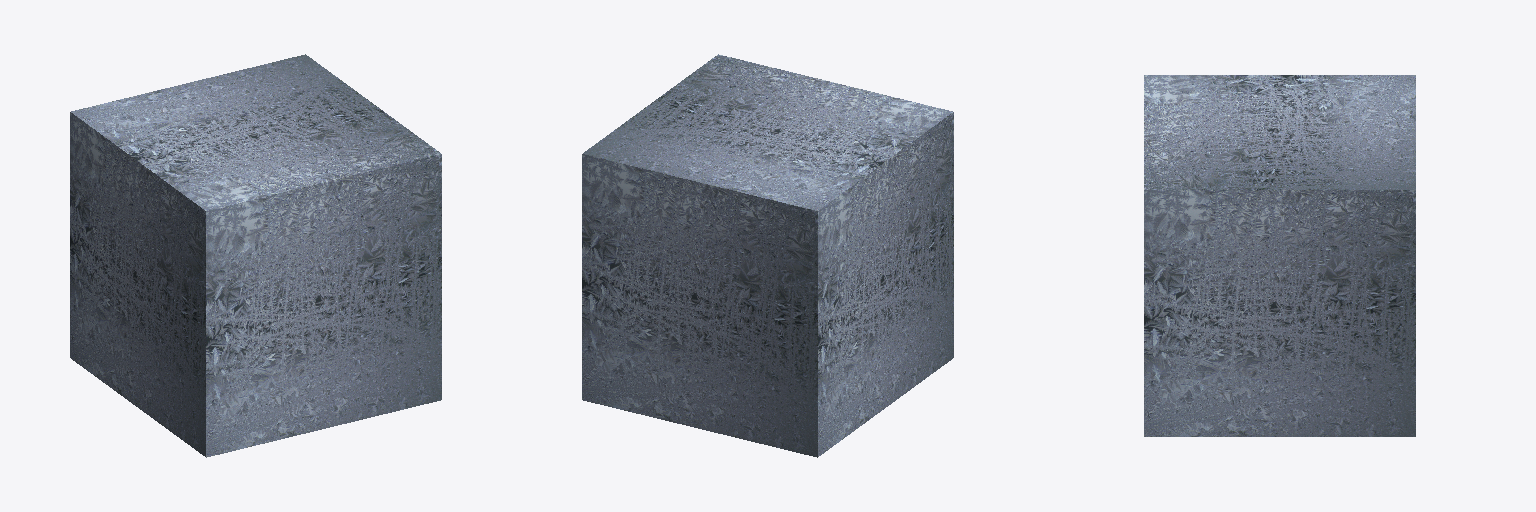
The picture shows the model from 3 angles: view 1: azimuth 30°, elevation 25°; view 2: azimuth 150°, elevation 25°; view 3: azimuth 270°, elevation 25°; orthographic projection.
Visible parts, largest first — view 1: MemoryCubeW; view 2: MemoryCubeW; view 3: MemoryCubeW.
Boxes of the visible parts, box(x1,y1,x2,y2) form: MemoryCubeW: box(70, 54, 441, 457); MemoryCubeW: box(582, 54, 953, 457); MemoryCubeW: box(1144, 75, 1415, 436).
Bounding box in the file's own units: 2 × 2 × 2.
2 materials, 2 textured.